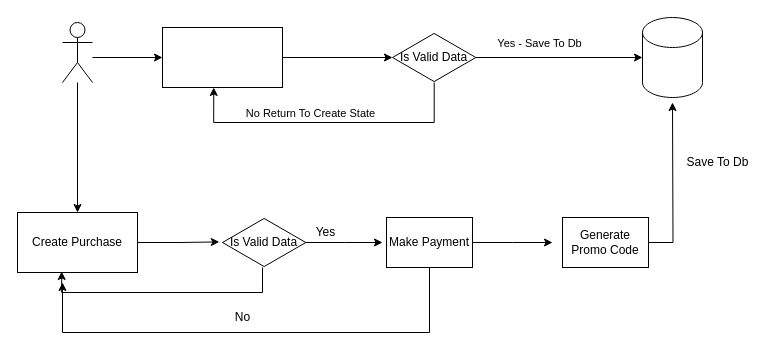
Image size: 780x358. Some labels were removed from this diagram. The shapes that lost their labels are listed below. From the top down, each one's box as (x1, y1, x2, y2) in pixels, then its label:
(62, 22, 92, 82): Actor
(162, 26, 282, 88): Create EVoucher
